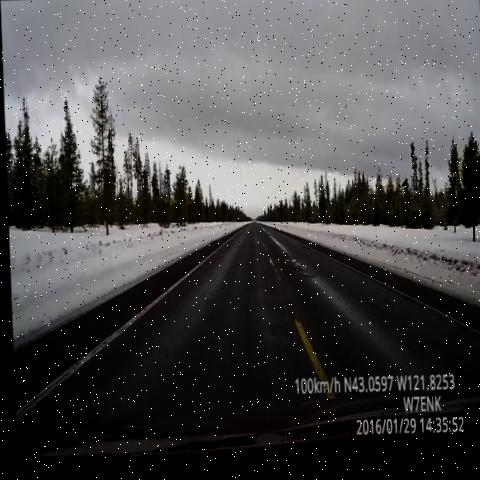pothole: (277, 250, 317, 286)
